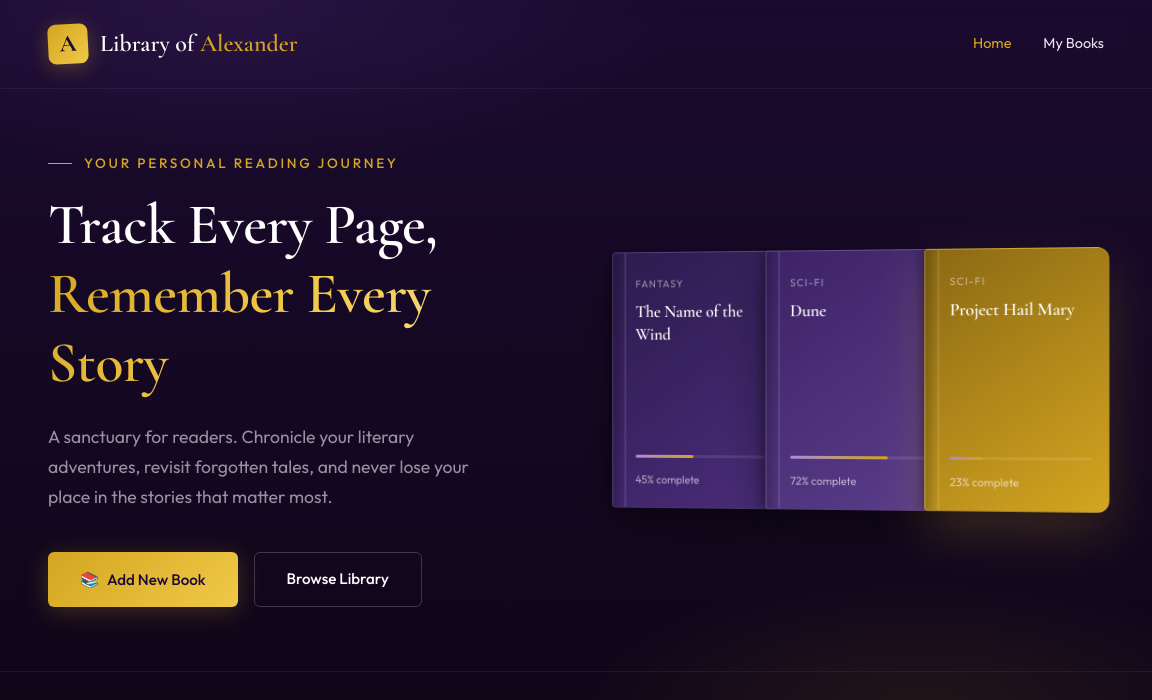
Test: App › Header and Navigation › navigates to library page when clicking My Books link
The width and height of the screenshot is (1152, 700).
Click the link "My Books" at (1074, 44), box [1043,24,1104,64]
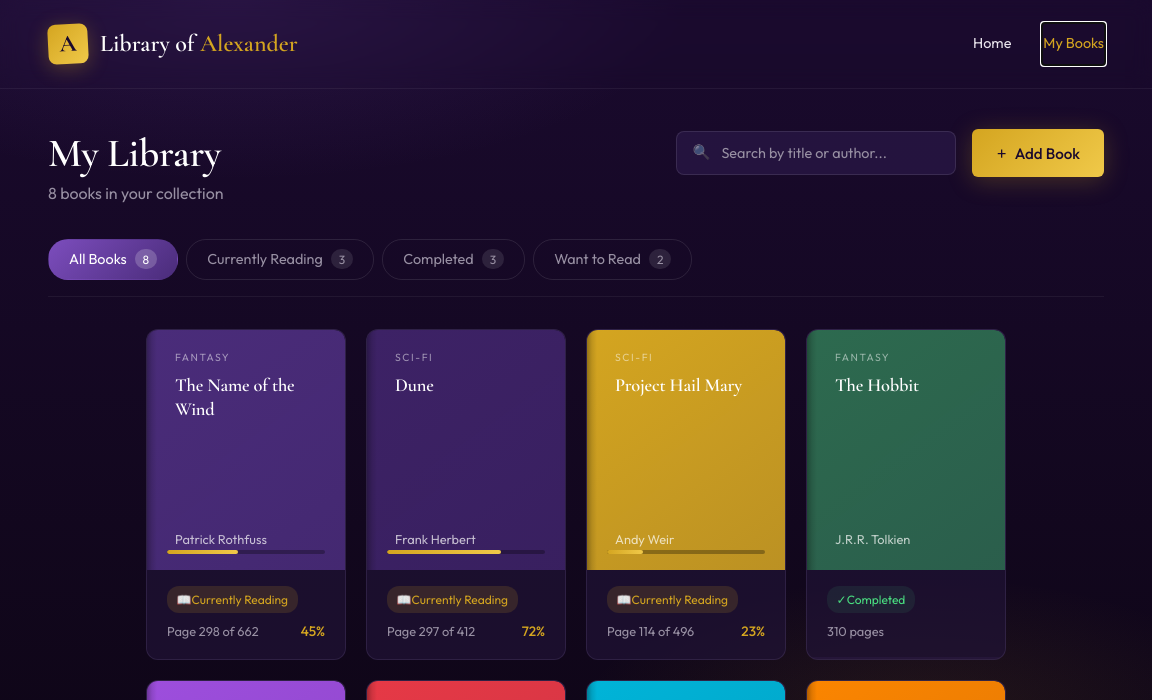
Expected: the heading "My Library" is shown, [48,129,221,177]
